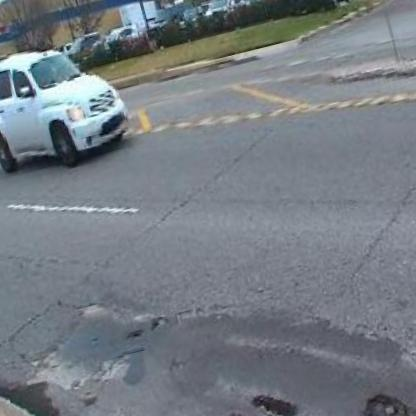pothole: (358, 370, 416, 416), (248, 380, 299, 416), (145, 306, 169, 334), (122, 321, 145, 342)
